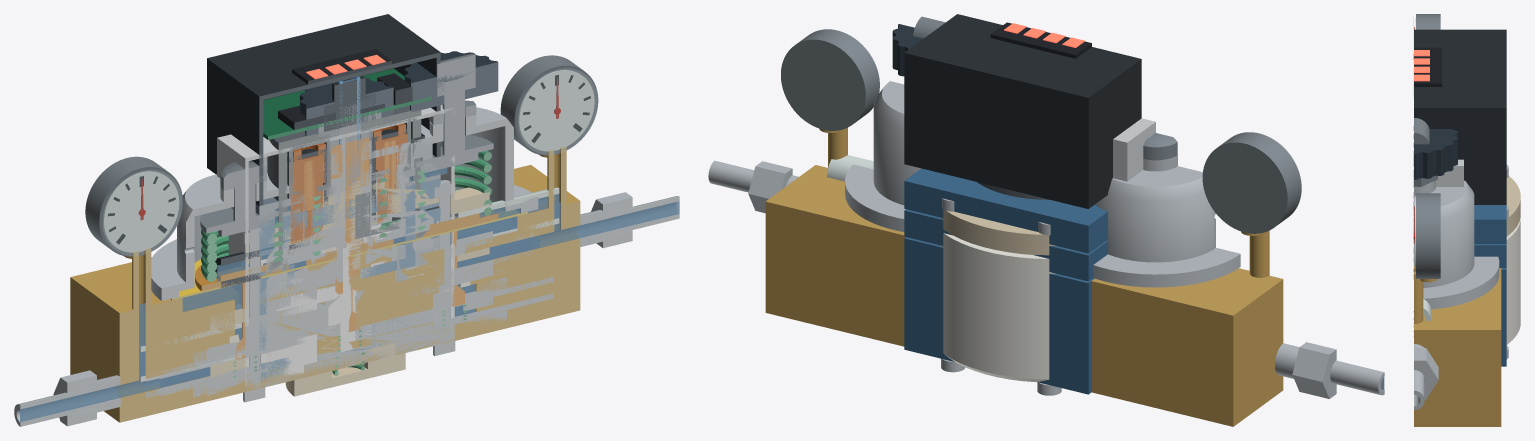
File: regulators.glb
3 renders of one model, left to right at view 1: azimuth 30°, elevation 25°; view 2: azimuth 150°, elevation 25°; view 3: azimuth 270°, elevation 25°, orthographic. The views are drawn at different scales.
Parts seen in each view (by area): view 1: twostg__body__20, epclose__cover__166, piezo__block__176, twostg__g_in_glass__54, twostg__g_out_glass__61, twostg__bonnet1__35, twostg__g_out_face__58, twostg__g_in_face__51, twostg__bonnet2__41, piezo__cover__187, dome__body__65, twostg__gas_lo (+60 smaller); view 2: twostg__body__20, epclose__cover__166, ptfe__body__84, twostg__bonnet1__35, epclose__body__140, twostg__g_in_case__49, twostg__g_out_case__56, epclose__topblock__154, twostg__bonnet2__41, ptfe__cover__90, epclose__midblock__151, twostg__inlet_nut__22 (+10 smaller); view 3: epclose__cover__166, twostg__body__20, twostg__bonnet2__41, twostg__g_out_case__56, twostg__knob2__47, ptfe__body__84, epclose__topblock__154, epclose__display__167, twostg__outlet_nut__25, ptfe__cover__90, epclose__body__140, epclose__midblock__151 (+8 smaller).
Part boxes in pixels (x1,y1,x2,y2): twostg__body__20: (70,165,580,422); epclose__cover__166: (207,14,440,205); piezo__block__176: (245,268,454,391); twostg__g_in_glass__54: (102,170,182,255); twostg__g_out_glass__61: (518,68,597,154); twostg__bonnet1__35: (151,173,328,300); twostg__g_out_face__58: (518,70,594,151); twostg__g_in_face__51: (103,171,179,252); twostg__bonnet2__41: (371,107,538,249); piezo__cover__187: (217,105,454,318); dome__body__65: (266,237,433,378); twostg__gas_lo: (396,201,679,258); twostg__body__20: (765,165,1283,426); epclose__cover__166: (904,14,1141,208); ptfe__body__84: (940,233,1055,382); twostg__bonnet1__35: (1093,155,1240,287); epclose__body__140: (904,237,1094,394); twostg__g_in_case__49: (1202,132,1301,233); twostg__g_out_case__56: (781,29,879,130); epclose__topblock__154: (904,168,1107,253); twostg__bonnet2__41: (845,81,920,231); ptfe__cover__90: (941,210,1055,255); epclose__midblock__151: (904,209,1107,281); twostg__inlet_nut__22: (1292,342,1336,398); epclose__cover__166: (1414,29,1506,204); twostg__body__20: (1414,268,1501,426); twostg__bonnet2__41: (1414,180,1499,309); twostg__g_out_case__56: (1416,193,1440,278); twostg__knob2__47: (1414,129,1457,179); ptfe__body__84: (1506,218,1520,344); epclose__topblock__154: (1474,205,1506,243); epclose__display__167: (1414,47,1442,86); twostg__outlet_nut__25: (1414,348,1438,399); ptfe__cover__90: (1506,176,1520,236); epclose__body__140: (1501,268,1506,366); epclose__midblock__151: (1474,244,1506,267).
Size of the model in its own units: 18.9 by 8.57 by 3.02.
